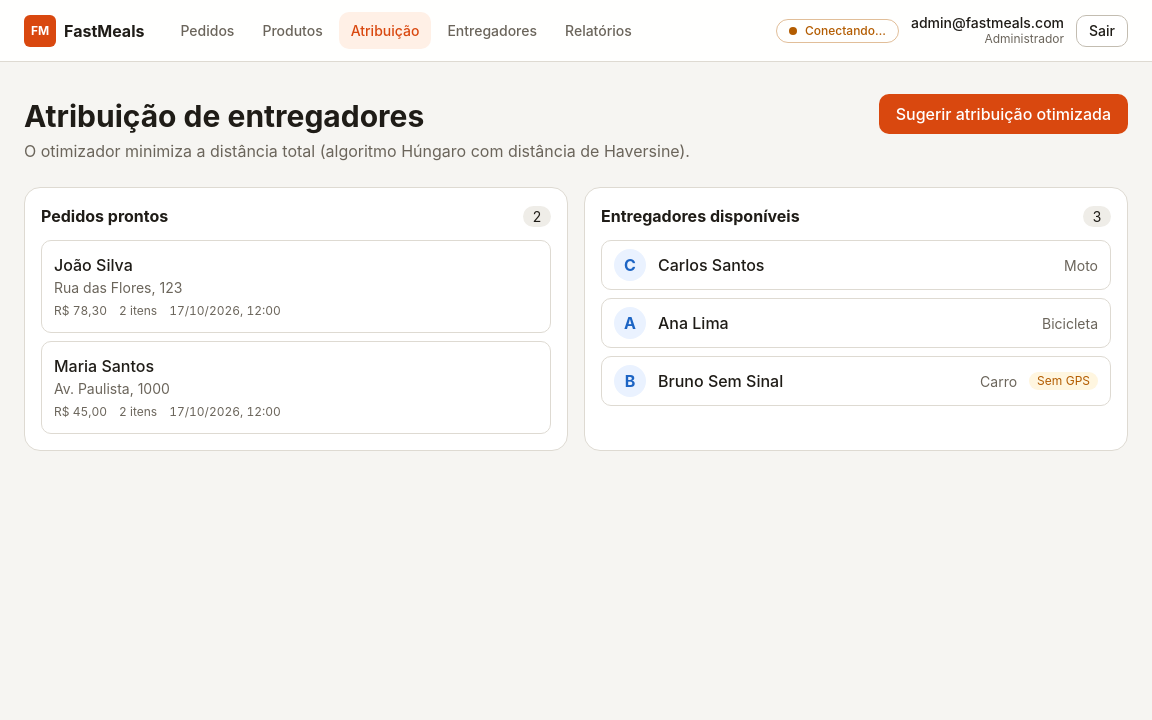
Tela de atribuição › entregador sem GPS é sinalizado e fica fora do cálculo
Check: the text "Sem GPS" is shown, box [1029,372,1098,390]
Click the button "Sugerir atribuição otimizada" at coordinates (1003, 114), box [879,94,1128,134]
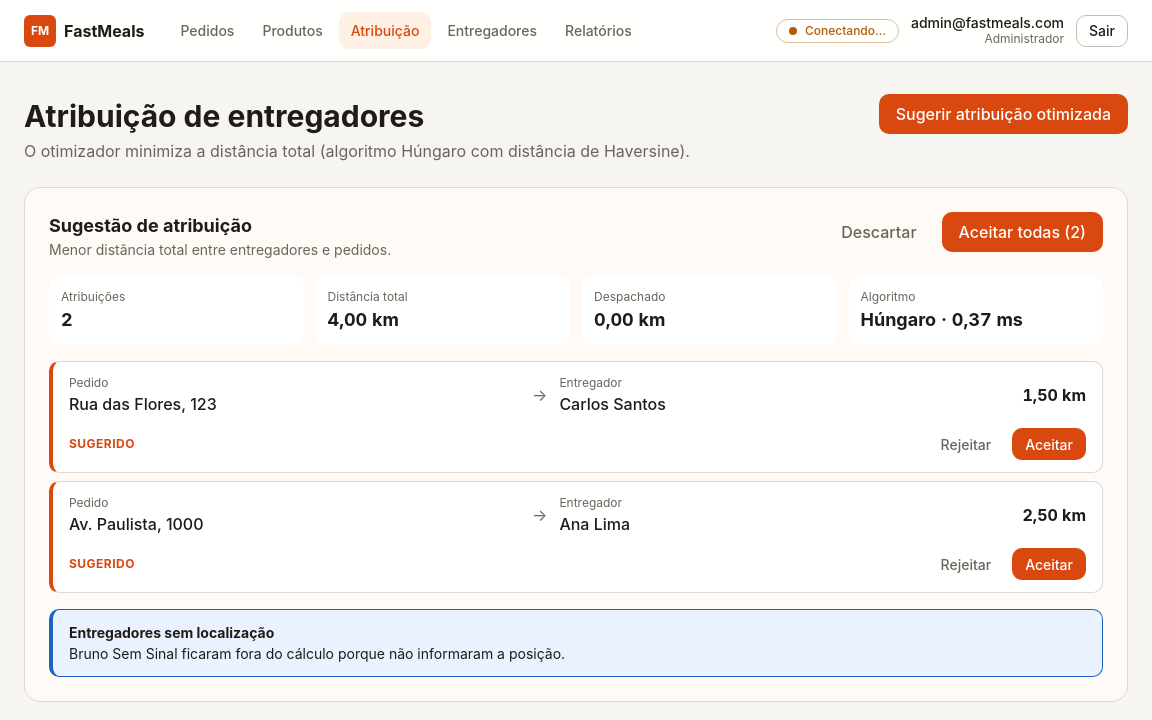
Check: the text "Bruno Sem Sinal ficaram fora do cálculo" is shown, box [69,645,565,662]
